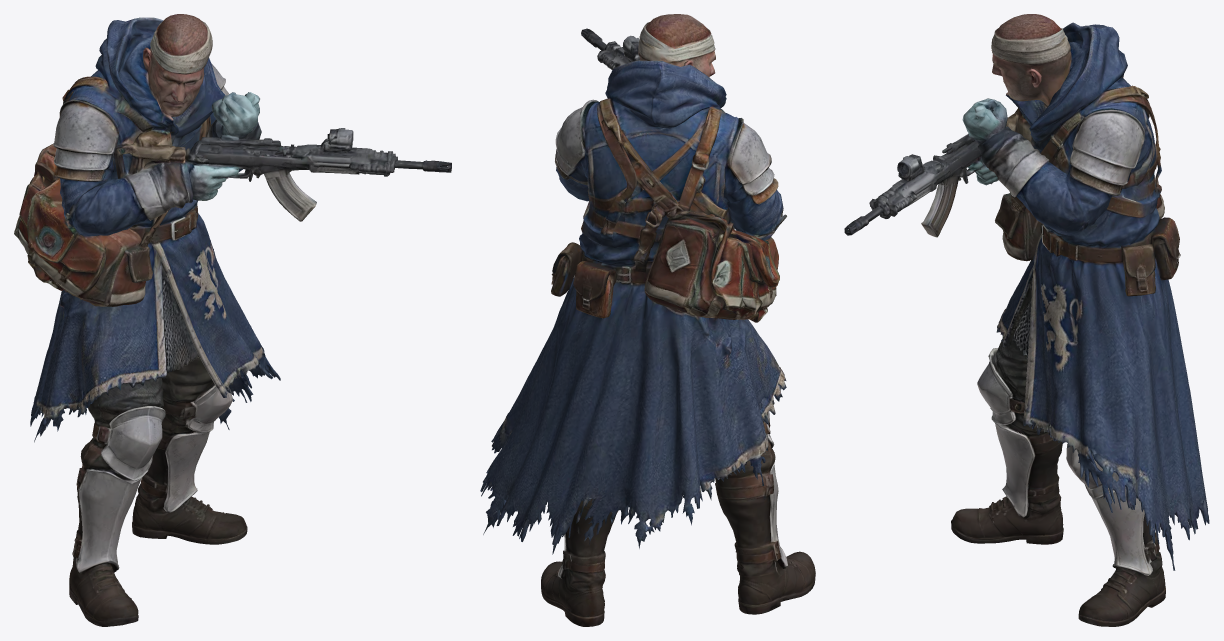
File: sanitar-knight.glb
The picture shows the model from 3 angles, left to right: view 1: azimuth 30°, elevation 25°; view 2: azimuth 150°, elevation 25°; view 3: azimuth 270°, elevation 25°; orthographic projection.
Visible parts, largest first — view 1: tripo_node_b3f620a0-6af9-4881-baa4-177cddc45433; view 2: tripo_node_b3f620a0-6af9-4881-baa4-177cddc45433; view 3: tripo_node_b3f620a0-6af9-4881-baa4-177cddc45433.
Boxes of the visible parts, x1=… form: tripo_node_b3f620a0-6af9-4881-baa4-177cddc45433: x1=14, y1=14, x2=451, y2=626; tripo_node_b3f620a0-6af9-4881-baa4-177cddc45433: x1=480, y1=14, x2=815, y2=626; tripo_node_b3f620a0-6af9-4881-baa4-177cddc45433: x1=844, y1=14, x2=1209, y2=626.
Size of the model in its own units: 0.5593 by 0.9803 by 0.5705.
1 material, 1 textured.
